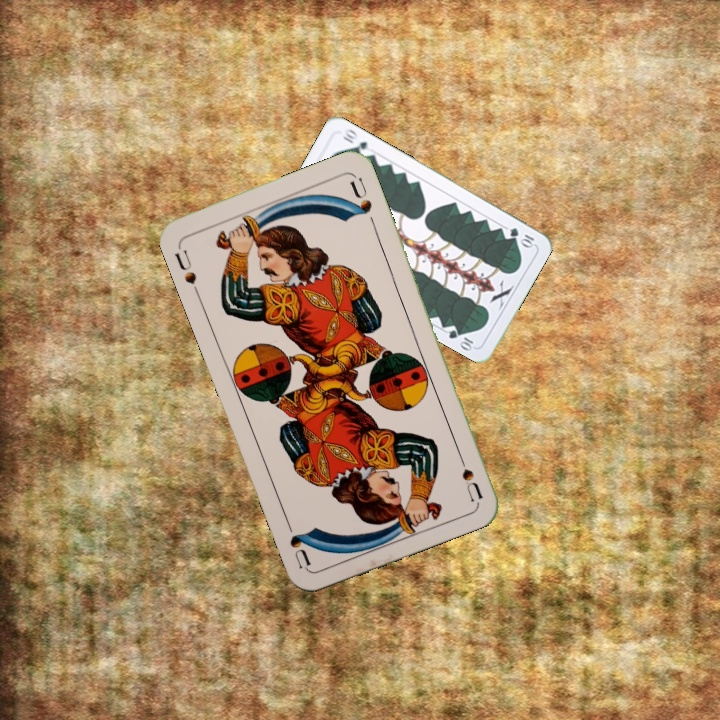G10: (506, 223, 537, 250)
SU: (452, 445, 485, 504), (170, 246, 199, 287)
